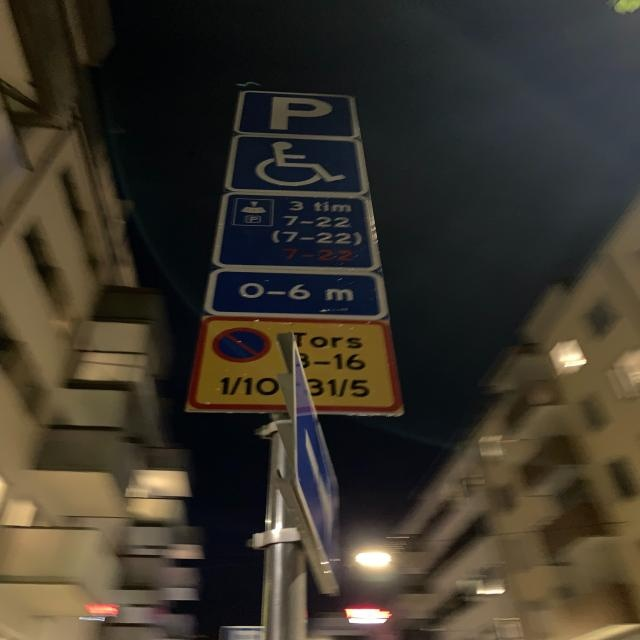avstignnigsplats: (236, 90, 360, 138)
